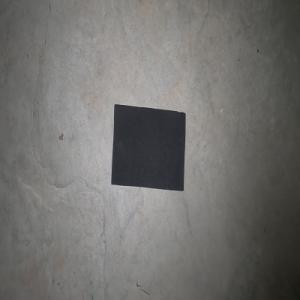PaintChip: (111, 104, 185, 191)
